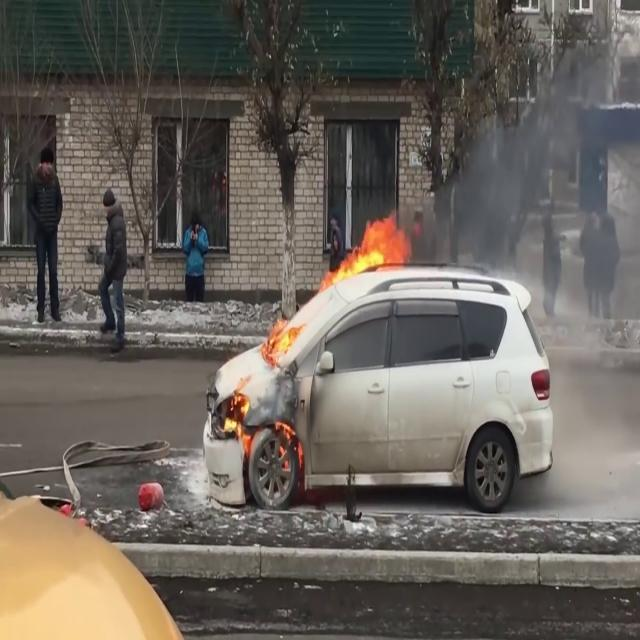Fire: (322, 212, 412, 286), (220, 384, 258, 446), (264, 314, 304, 364)
Smoke: (423, 23, 640, 354)
